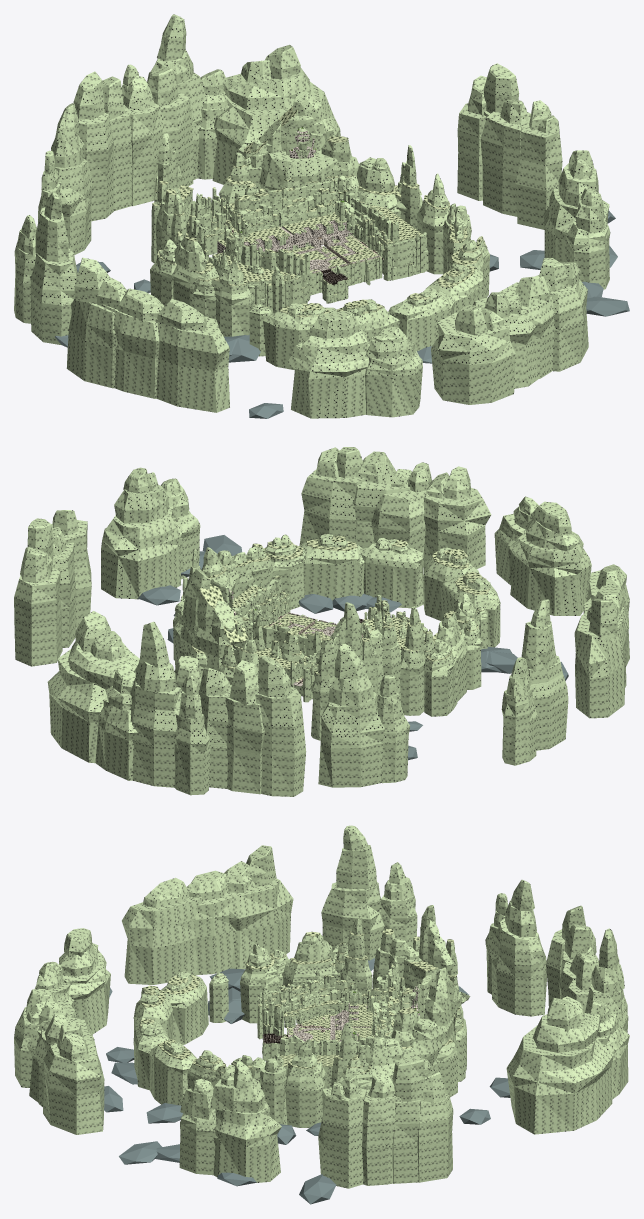
Rendered from LOBBY_02_TERRAIN_9df2fe.fbx.
The picture shows the model from 3 angles, top to bottom: view 1: azimuth 30°, elevation 25°; view 2: azimuth 150°, elevation 25°; view 3: azimuth 270°, elevation 25°; orthographic projection. The views are drawn at different scales.
Parts seen in each view (by area): view 1: TER_Mountains_Peaks__Cliff_Rock_Far_Dark, TER_Mountains_Peaks__Cliff_Rock_Far, TER_Mountains_Peaks__Cliff_Rock_Mid_Dark, TER_Mountains_Peaks__Cliff_Rock_Mid, TER_Mountains_Near__Cliff_Rock, TER_Far_Valley__Far_Haze, TER_Mountains_Near__Cliff_Rock_Dark, TER_Mountains_Peaks__Grass_Dark, TER_Mountains_Near__Cliff_Rock_Top, TER_Mountains_Near__Cliff_Rock_Mid, TER_Mountains_Near__Cliff_Rock_Mid_Dark, TER_Mountains_Near__Grass_Dark (+6 smaller); view 2: TER_Mountains_Peaks__Cliff_Rock_Far_Dark, TER_Mountains_Peaks__Cliff_Rock_Far, TER_Mountains_Peaks__Cliff_Rock_Mid_Dark, TER_Mountains_Peaks__Cliff_Rock_Mid, TER_Far_Valley__Far_Haze, TER_Mountains_Peaks__Grass_Dark, TER_Mountains_Near__Grass_Dark, TER_Mountains_Near__Cliff_Rock_Mid, TER_Mountains_Near__Cliff_Rock_Top, TER_Mountains_Near__Cliff_Rock_Mid_Dark, TER_Mountains_Near__Cliff_Rock_Dark, TER_Mountains_Near__Cliff_Rock (+1 smaller); view 3: TER_Mountains_Peaks__Cliff_Rock_Far_Dark, TER_Mountains_Peaks__Cliff_Rock_Far, TER_Mountains_Peaks__Cliff_Rock_Mid_Dark, TER_Mountains_Peaks__Cliff_Rock_Mid, TER_Far_Valley__Far_Haze, TER_Mountains_Peaks__Grass_Dark, TER_Mountains_Near__Cliff_Rock_Dark, TER_Mountains_Near__Cliff_Rock_Top, TER_Mountains_Near__Cliff_Rock, TER_Mountains_Near__Cliff_Rock_Mid, TER_Mountains_Near__Cliff_Rock_Mid_Dark, TER_Mountains_Near__Grass (+2 smaller).
Part boxes in pixels (left/top/right/bottom): TER_Mountains_Peaks__Cliff_Rock_Far_Dark: left=14, top=14, right=604, bottom=418; TER_Mountains_Peaks__Cliff_Rock_Far: left=16, top=60, right=610, bottom=417; TER_Mountains_Peaks__Cliff_Rock_Mid_Dark: left=150, top=88, right=489, bottom=370; TER_Mountains_Peaks__Cliff_Rock_Mid: left=151, top=111, right=487, bottom=356; TER_Mountains_Near__Cliff_Rock: left=198, top=195, right=427, bottom=313; TER_Far_Valley__Far_Haze: left=55, top=210, right=629, bottom=418; TER_Mountains_Near__Cliff_Rock_Dark: left=186, top=197, right=425, bottom=314; TER_Mountains_Peaks__Grass_Dark: left=152, top=106, right=487, bottom=317; TER_Mountains_Near__Cliff_Rock_Top: left=198, top=186, right=426, bottom=293; TER_Mountains_Near__Cliff_Rock_Mid: left=190, top=173, right=357, bottom=234; TER_Mountains_Near__Cliff_Rock_Mid_Dark: left=189, top=167, right=350, bottom=240; TER_Mountains_Near__Grass_Dark: left=187, top=177, right=422, bottom=281; TER_Mountains_Peaks__Cliff_Rock_Far_Dark: left=20, top=447, right=629, bottom=796; TER_Mountains_Peaks__Cliff_Rock_Far: left=14, top=447, right=628, bottom=795; TER_Mountains_Peaks__Cliff_Rock_Mid_Dark: left=173, top=534, right=500, bottom=740; TER_Mountains_Peaks__Cliff_Rock_Mid: left=173, top=537, right=487, bottom=695; TER_Far_Valley__Far_Haze: left=138, top=535, right=568, bottom=760; TER_Mountains_Peaks__Grass_Dark: left=181, top=535, right=490, bottom=675; TER_Mountains_Near__Grass_Dark: left=232, top=586, right=424, bottom=669; TER_Mountains_Near__Cliff_Rock_Mid: left=243, top=621, right=320, bottom=661; TER_Mountains_Near__Cliff_Rock_Top: left=232, top=575, right=432, bottom=656; TER_Mountains_Near__Cliff_Rock_Mid_Dark: left=249, top=613, right=322, bottom=656; TER_Mountains_Near__Cliff_Rock_Dark: left=236, top=581, right=407, bottom=678; TER_Mountains_Near__Cliff_Rock: left=241, top=586, right=410, bottom=643; TER_Mountains_Peaks__Cliff_Rock_Far_Dark: left=26, top=825, right=629, bottom=1188; TER_Mountains_Peaks__Cliff_Rock_Far: left=14, top=861, right=628, bottom=1185; TER_Mountains_Peaks__Cliff_Rock_Mid_Dark: left=139, top=920, right=466, bottom=1124; TER_Mountains_Peaks__Cliff_Rock_Mid: left=133, top=905, right=470, bottom=1127; TER_Far_Valley__Far_Haze: left=104, top=958, right=510, bottom=1204; TER_Mountains_Peaks__Grass_Dark: left=139, top=929, right=468, bottom=1074; TER_Mountains_Near__Cliff_Rock_Dark: left=257, top=980, right=374, bottom=1088; TER_Mountains_Near__Cliff_Rock_Top: left=258, top=975, right=382, bottom=1066; TER_Mountains_Near__Cliff_Rock: left=259, top=980, right=378, bottom=1055; TER_Mountains_Near__Cliff_Rock_Mid: left=377, top=955, right=404, bottom=1038; TER_Mountains_Near__Cliff_Rock_Mid_Dark: left=374, top=968, right=410, bottom=1038; TER_Mountains_Near__Grass: left=258, top=965, right=399, bottom=1046.
Size of the model in its own units: 1412 by 377 by 1419.
9 materials, 5 textured.
